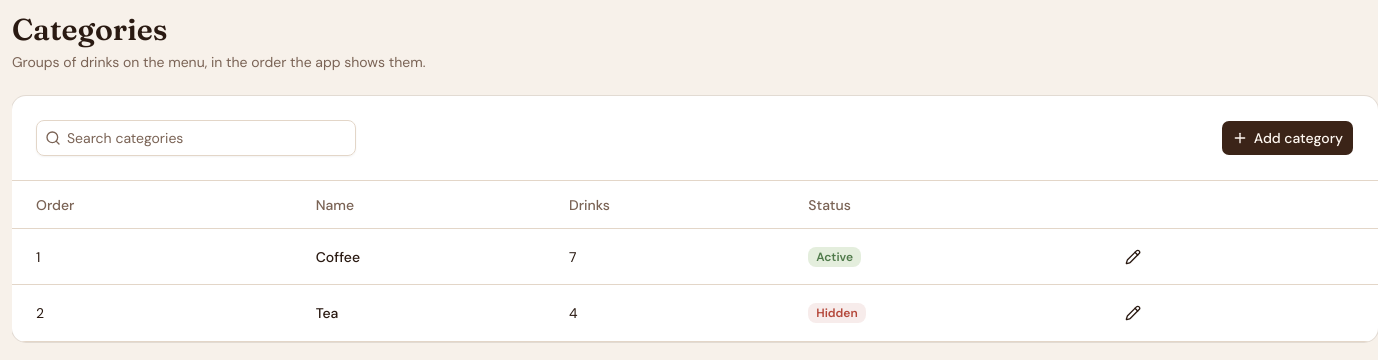
Scenario: CategoriesPage (FR-25) › search narrows the list
Expected: the text "Coffee" is shown, [316, 248, 360, 266]
Type "te" into the field with placeholder "Search categories" at (208, 138), box [61, 120, 355, 156]
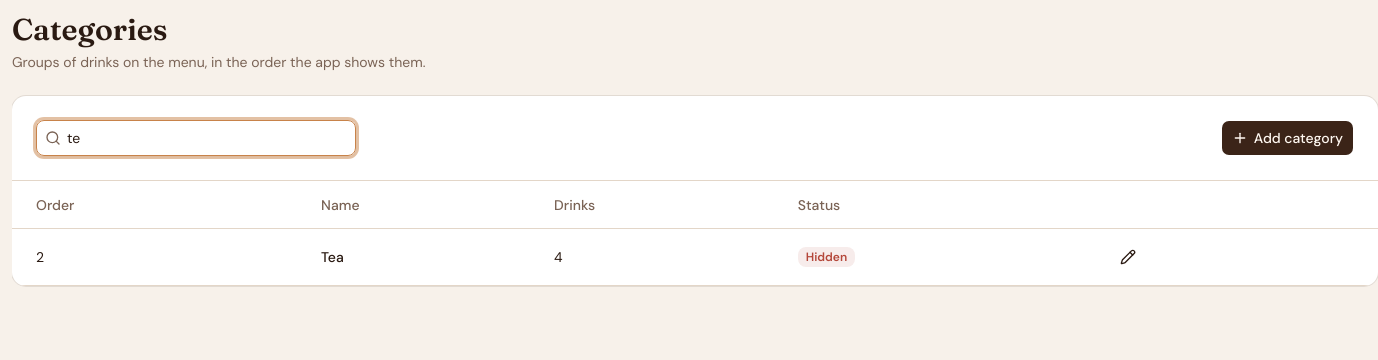
Expected: the text "Tea" is shown, [321, 248, 344, 266]
Expected: the text "Coffee" is gone
